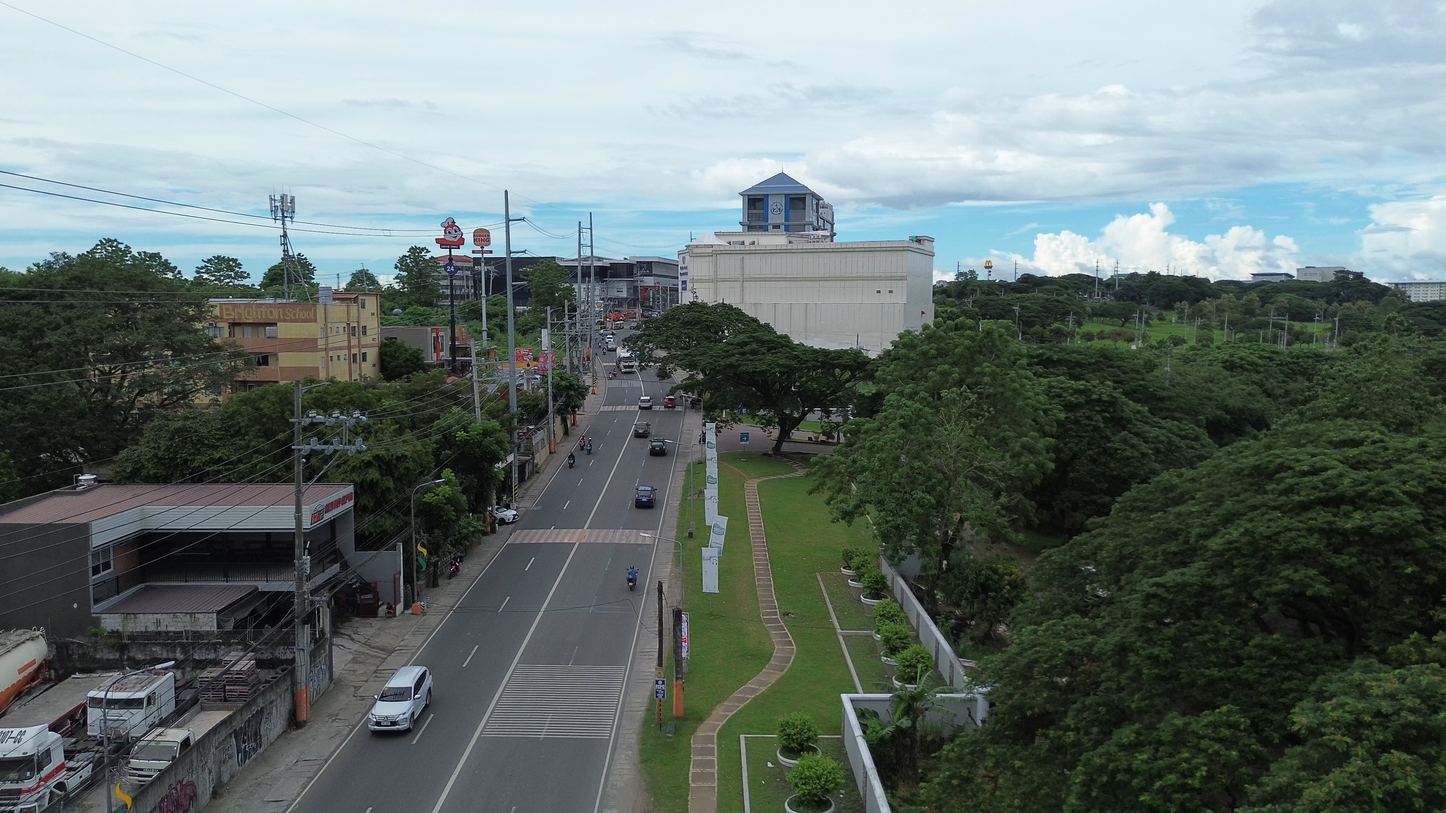car: (368, 665, 433, 731), (490, 506, 519, 524), (634, 486, 655, 508), (649, 438, 667, 456), (633, 422, 650, 437), (638, 395, 652, 410)
motorcycle: (449, 556, 461, 579), (627, 567, 638, 591), (584, 441, 593, 455), (567, 454, 575, 469)
truck: (0, 674, 115, 813), (126, 704, 233, 787)
vehicle: (88, 670, 175, 740), (126, 728, 195, 786), (0, 630, 47, 713), (617, 349, 638, 373), (627, 566, 638, 591), (663, 395, 676, 409), (567, 452, 575, 467)
